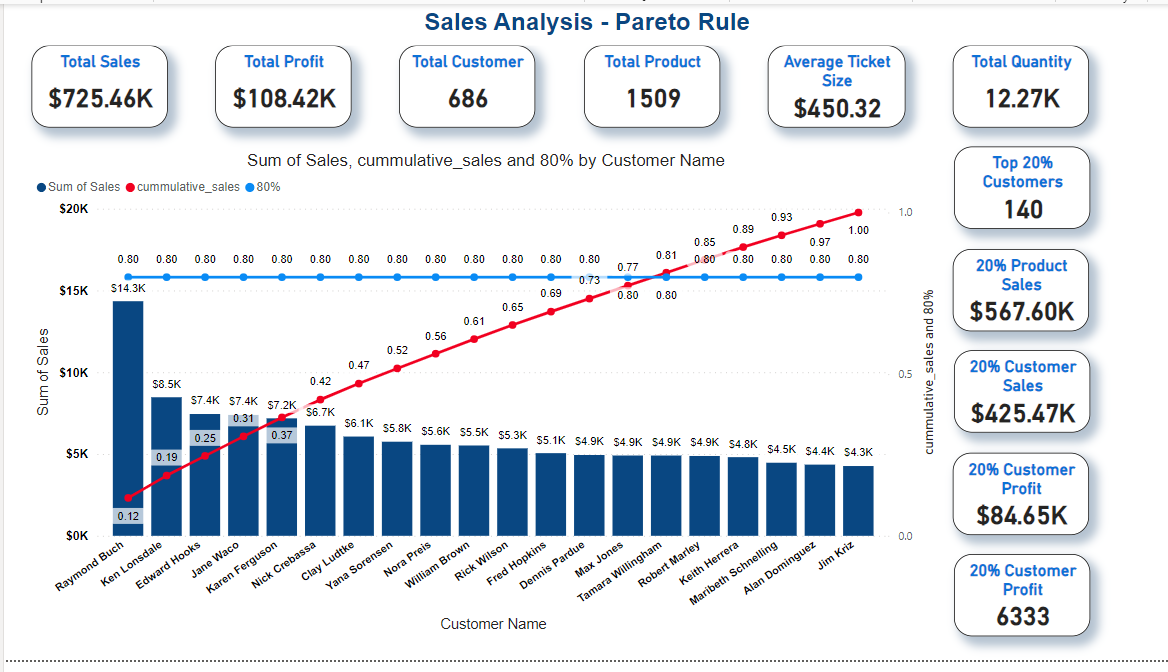

The dashboard page shown, as its layout file describes it:
{"tool":"powerbi","page":{"name":"Pareto_Rule","canvas":[1280,720],"ordinal":3},"visuals":[{"type":"lineStackedColumnComboChart","fields":{"Y2":["WALMART_2.cummulative_sales","WALMART_2.80%"],"Y":["Sum(Walmart.Sales)"],"Category":["Walmart.Customer Name"]},"box":[30.2,160.5,997.6,533.8],"z":0},{"type":"card","title":"Total Sales","fields":{"Values":["Sum(Walmart.Sales)"]},"box":[30.2,45.3,149.6,90.6],"z":1000},{"type":"card","title":"Total Profit","fields":{"Values":["Sum(Walmart.Profit)"]},"box":[232.2,45.3,149.6,90.6],"z":2000},{"type":"card","title":"Total Customer","fields":{"Values":["Count(Walmart.Customer Name)"]},"box":[434.2,45.3,149.6,90.6],"z":3000},{"type":"card","title":"Total Product","fields":{"Values":["Count(Walmart.Product ID)"]},"box":[636.2,45.3,149.6,90.6],"z":4000},{"type":"card","title":"Average Ticket Size","fields":{"Values":["Avg(WALAMART_2.Total_Sales)"]},"box":[838.2,45.3,150.9,90.6],"z":5000},{"type":"card","title":"Total Quantity","fields":{"Values":["Sum(WALMART_2.Total_Quantity)"]},"box":[1041.5,45.3,149.6,90.6],"z":6000},{"type":"card","title":"20% Product Sales","fields":{"Values":["Sum(Walmart.Sales)"]},"box":[1041.5,268.7,149.6,90.6],"z":7000},{"type":"card","title":"20% Customer Sales","fields":{"Values":["Sum(Walmart.Sales)"]},"box":[1042.9,380.4,149.6,90.6],"z":8000},{"type":"card","title":"20% Customer Profit","fields":{"Values":["Sum(Walmart.Profit)"]},"box":[1041.5,492.1,149.6,90.6],"z":9000},{"type":"card","title":"20% Customer Profit","fields":{"Values":["Sum(Walmart.Quantity)"]},"box":[1042.9,603.8,149.6,90.6],"z":10000},{"type":"card","title":"Top 20% Customers","fields":{"Values":["Count(Walmart.Customer ID)"]},"box":[1042.9,157,149.6,90.6],"z":11000},{"type":"textbox","box":[0,0,1280.3,45.3],"z":12000}]}

Visuals, with their boxes in screenshot pixels (x1, y1, x2, y2), scaled from the page's 1280x720 canvas onto the 1168x672 screenshot:
lineStackedColumnComboChart - WALMART_2.cummulative_sales x WALMART_2.80%: x1=28, y1=150, x2=938, y2=648
"Total Sales" card: x1=28, y1=42, x2=164, y2=127
"Total Profit" card: x1=212, y1=42, x2=348, y2=127
"Total Customer" card: x1=396, y1=42, x2=533, y2=127
"Total Product" card: x1=581, y1=42, x2=717, y2=127
"Average Ticket Size" card: x1=765, y1=42, x2=903, y2=127
"Total Quantity" card: x1=950, y1=42, x2=1087, y2=127
"20% Product Sales" card: x1=950, y1=251, x2=1087, y2=335
"20% Customer Sales" card: x1=952, y1=355, x2=1088, y2=440
"20% Customer Profit" card: x1=950, y1=459, x2=1087, y2=544
"20% Customer Profit" card: x1=952, y1=564, x2=1088, y2=648
"Top 20% Customers" card: x1=952, y1=147, x2=1088, y2=231
textbox: x1=0, y1=0, x2=1167, y2=42
